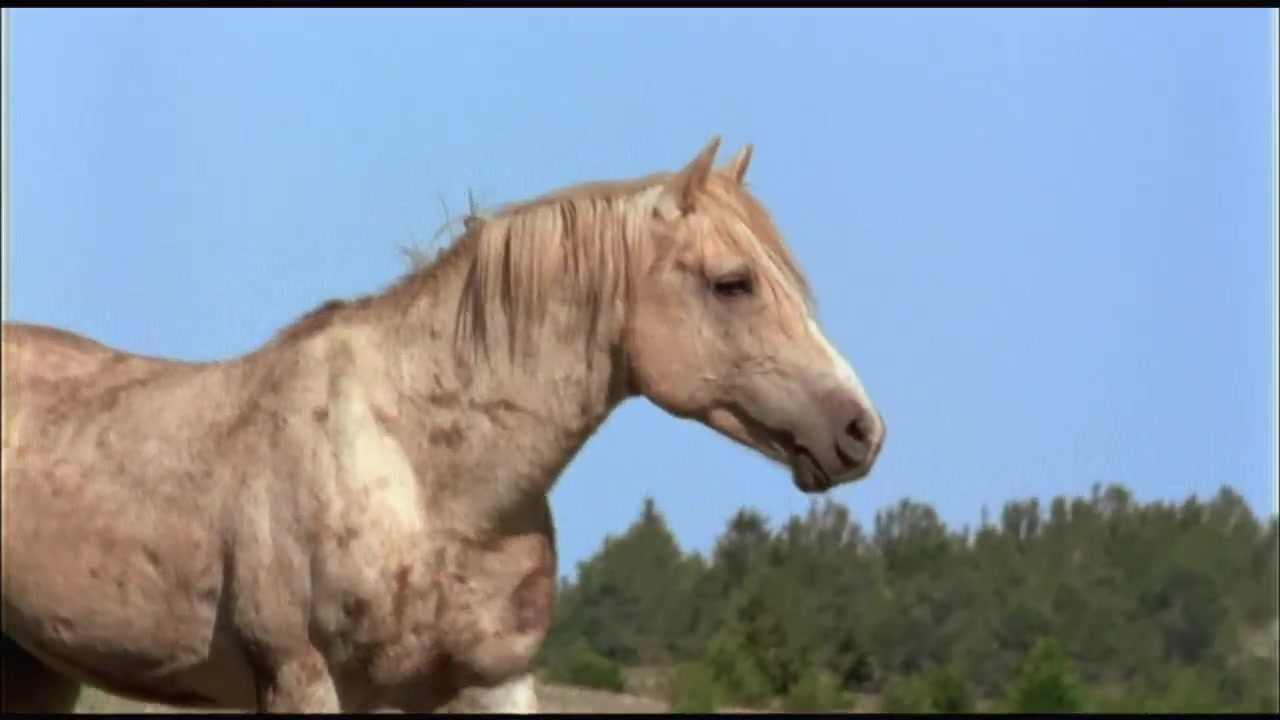horse: (1, 134, 891, 720)
